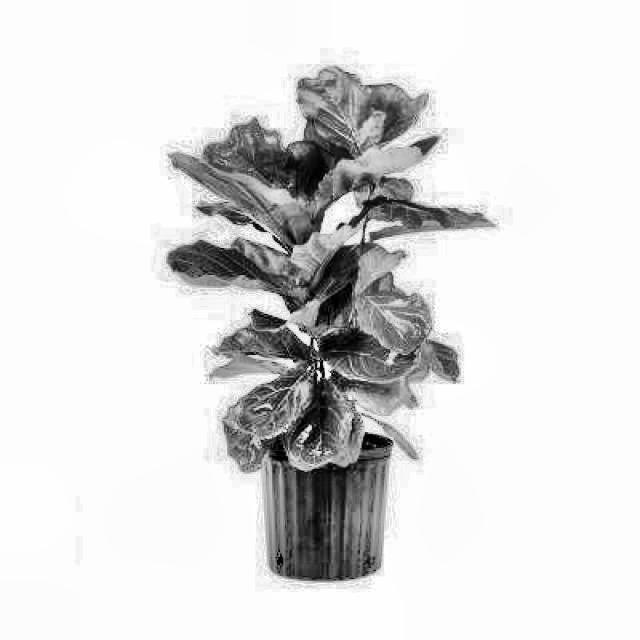plants: (177, 75, 480, 433)
